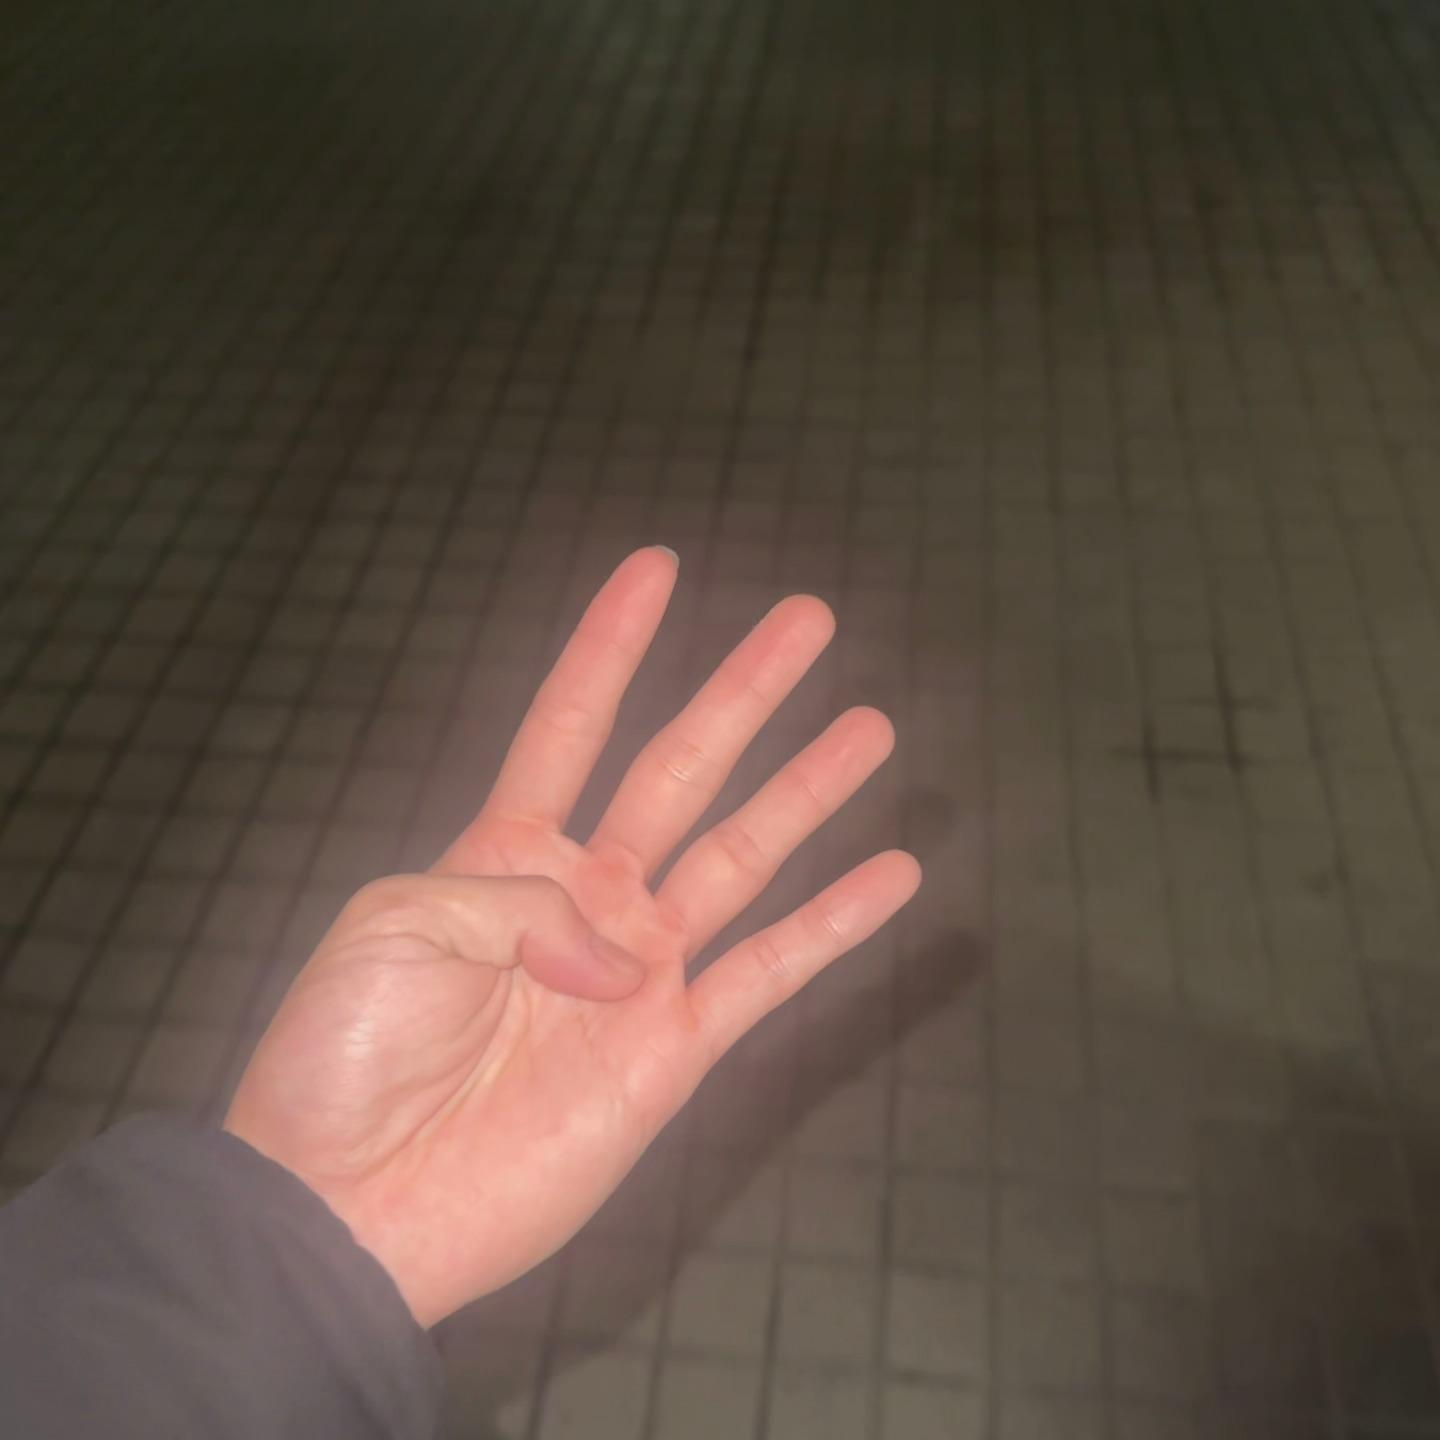without_gloves: (165, 363, 1056, 1410)
